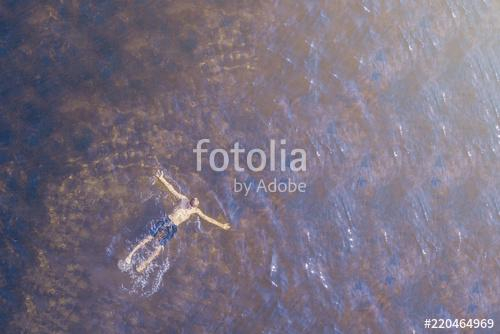swimmer: (120, 169, 230, 276)
